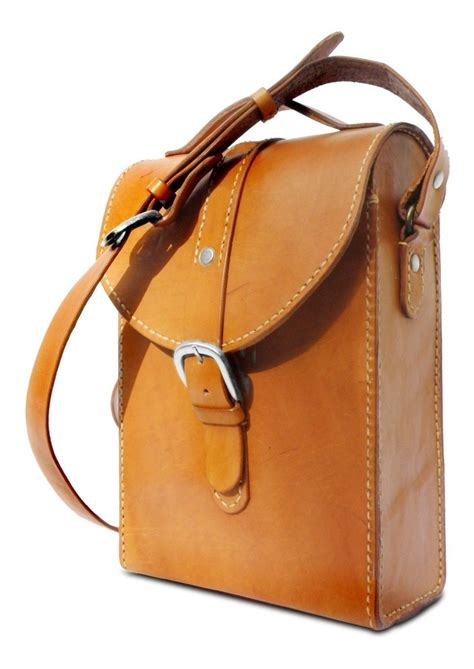cuero: (27, 28, 450, 632)
